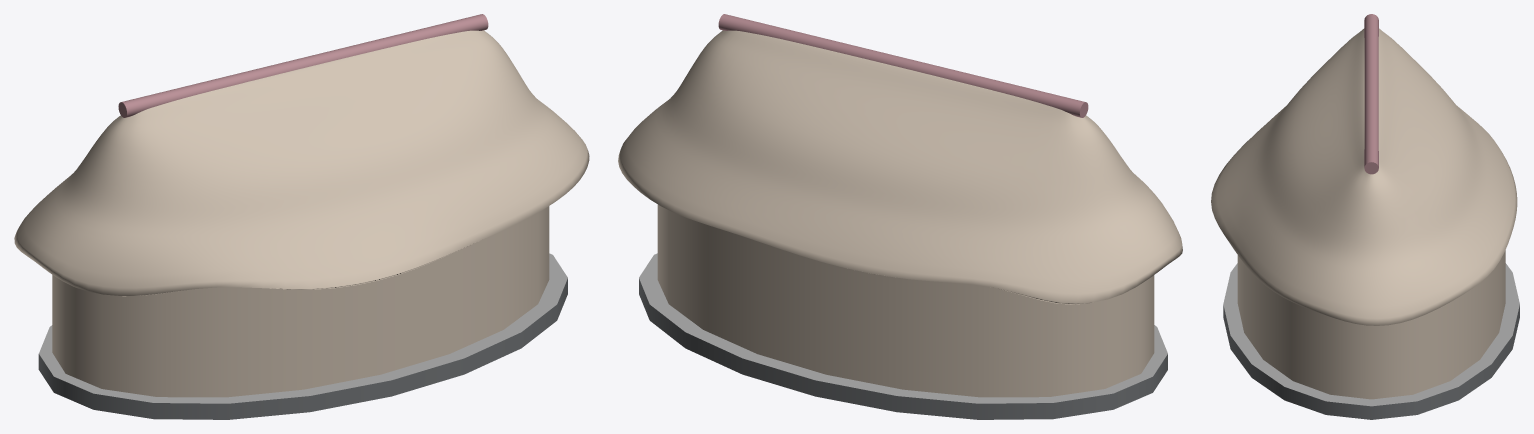
The model's file is HUT_LO.fbx.
3 views of the same model, side by side, from view 1: azimuth 30°, elevation 25°; view 2: azimuth 150°, elevation 25°; view 3: azimuth 270°, elevation 25° (orthographic). The views are drawn at different scales.
Visible parts, largest first — view 1: polySurface339; view 2: polySurface339; view 3: polySurface339.
Boxes of the visible parts, left/top/right/bottom form: polySurface339: left=14, top=14, right=589, bottom=419; polySurface339: left=618, top=14, right=1182, bottom=419; polySurface339: left=1211, top=14, right=1519, bottom=419.
Size of the model in its own units: 21.96 by 10.59 by 12.92.
